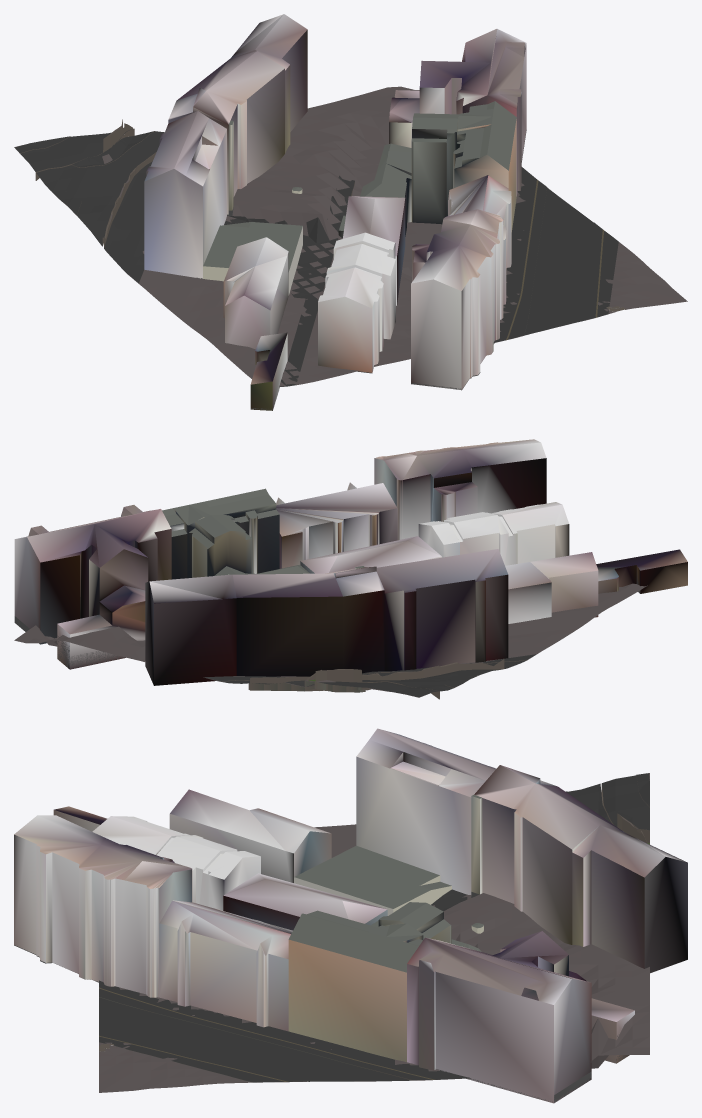
3 renders of one model, top to bottom at view 1: azimuth 30°, elevation 25°; view 2: azimuth 150°, elevation 25°; view 3: azimuth 270°, elevation 25°, orthographic. The views are drawn at different scales.
Visible parts, largest first — view 1: c_p02_m13; view 2: c_p02_m13; view 3: c_p02_m13.
Boxes of the visible parts, box(x1,y1,x2,y2) form: c_p02_m13: box(14, 14, 687, 410); c_p02_m13: box(14, 439, 687, 699); c_p02_m13: box(14, 728, 687, 1103).
Bounding box in the file's own units: 148 × 40.07 × 157.
